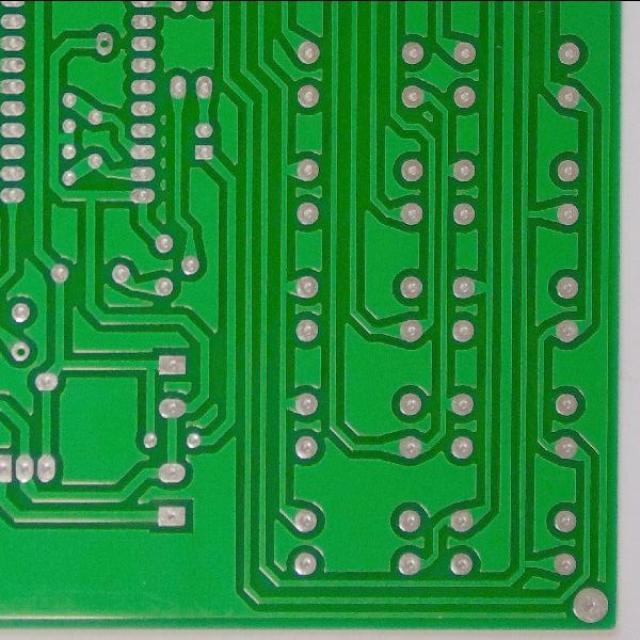missing_hole: (93, 30, 115, 55), (10, 339, 33, 361)
